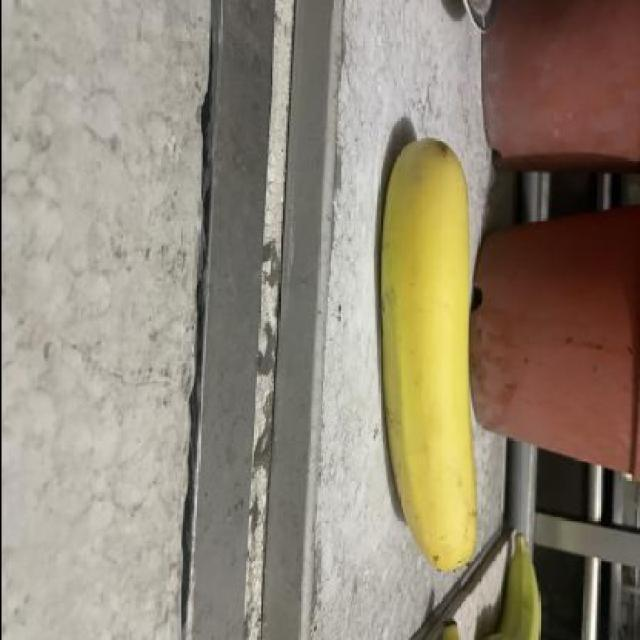banana: (378, 128, 484, 574)
